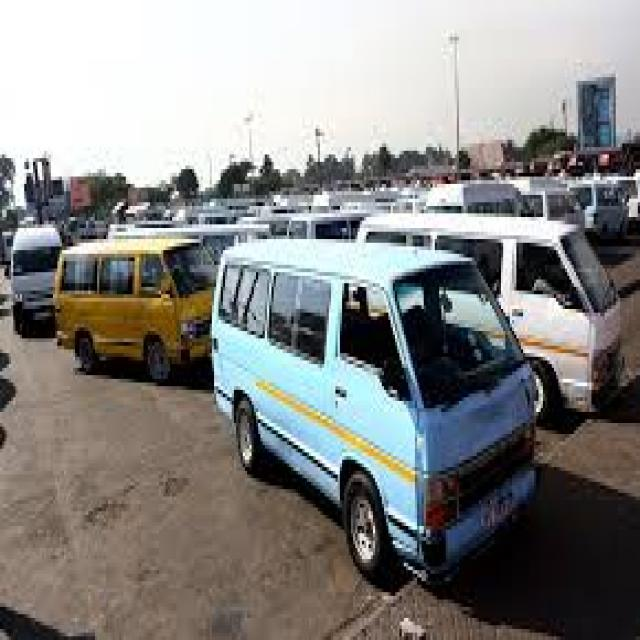MiniBus taxi: (207, 225, 543, 592), (55, 236, 210, 386), (8, 213, 59, 346)
